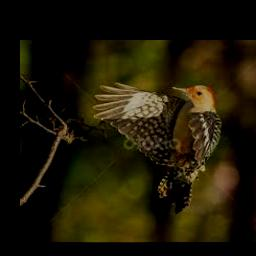Woodpecker: (93, 82, 223, 213)
